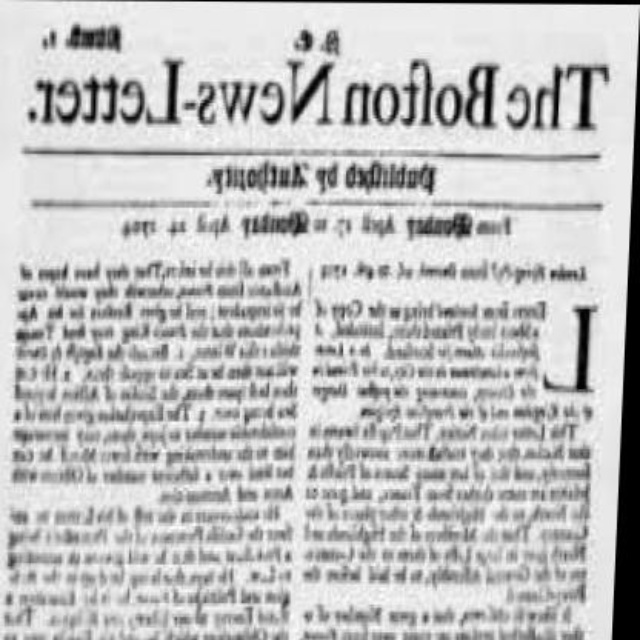trash: (0, 3, 637, 638)
